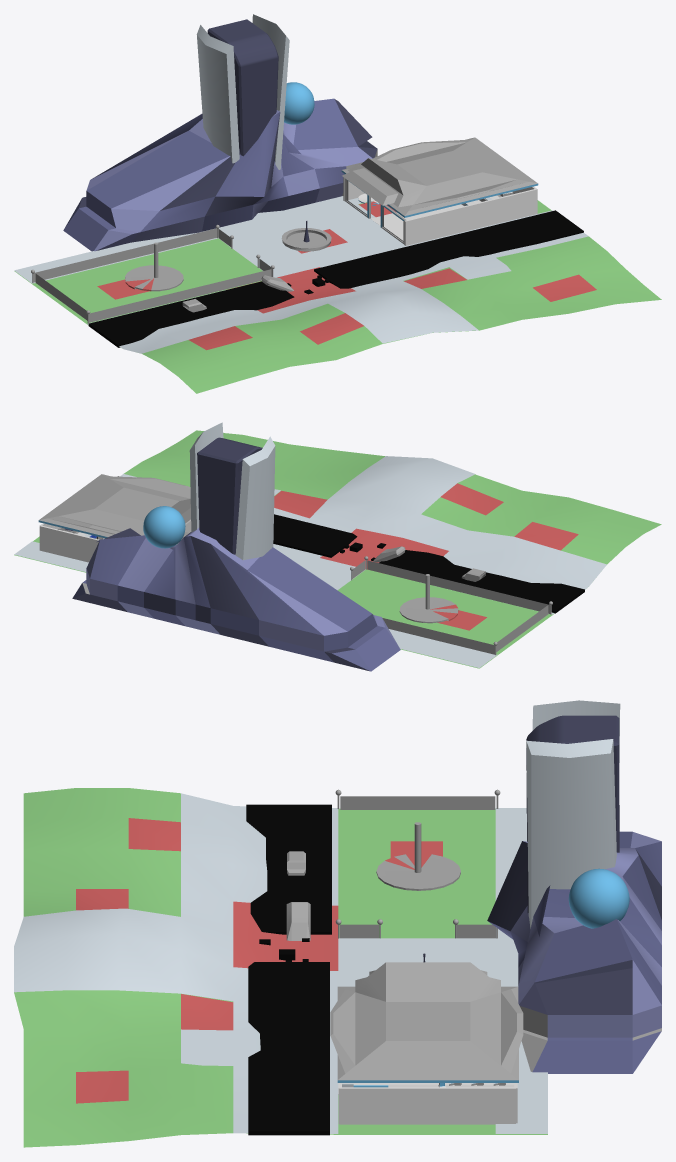
Rendered from Its_couloured.fbx.
The picture shows the model from 3 angles, top to bottom: view 1: azimuth 30°, elevation 25°; view 2: azimuth 150°, elevation 25°; view 3: azimuth 270°, elevation 25°; orthographic projection. The views are drawn at different scales.
Parts seen in each view (by area): view 1: pPlane3, pCube35, pPlane2, pCube53, pCube4, pCube32, pCube3, pCube33, pCube12, pPlane10, pPlane9, pCube34 (+4 smaller); view 2: pCube35, pPlane3, pPlane2, pCube53, pCube32, pCube33, pCube3, pCube4, pPlane9, pCube23, pSphere1, pCylinder3 (+3 smaller); view 3: pPlane3, pPlane2, pCube35, pCube53, pCube4, pCube34, pCube3, pCube13, pCube32, pSphere1, pCylinder3, pPlane12 (+2 smaller).
Boxes of the visible parts, x1,y1,x2,y2 form: pPlane3: (14,200,661,393); pCube35: (63,98,377,251); pPlane2: (14,196,588,353); pCube53: (341,137,538,217); pCube4: (314,210,583,288); pCube32: (207,19,278,161); pCube3: (88,281,294,347); pCube33: (196,25,239,163); pCube12: (404,189,537,245); pPlane10: (33,228,218,282); pPlane9: (89,269,271,322); pCube34: (252,14,289,169); pCube35: (72,527,400,671); pPlane3: (14,430,661,668); pPlane2: (14,456,606,667); pCube53: (38,474,191,544); pCube32: (197,437,262,554); pCube33: (235,436,275,560); pCube3: (379,550,584,613); pCube4: (118,476,357,557); pPlane9: (367,560,550,613); pCube23: (39,525,99,562); pSphere1: (143,506,185,548); pCylinder3: (399,597,458,623); pPlane3: (14,788,547,1147); pPlane2: (14,793,547,1133); pCube35: (487,831,661,1073); pCube53: (330,962,523,1082); pCube4: (248,962,329,1135); pCube34: (526,739,616,928); pCube3: (246,804,331,934); pCube13: (339,1087,515,1124); pCube32: (526,715,619,912); pSphere1: (568,868,629,928); pCylinder3: (376,854,460,890); pPlane12: (340,796,495,809).
Size of the model in its own units: 103 by 39.07 by 86.28.
